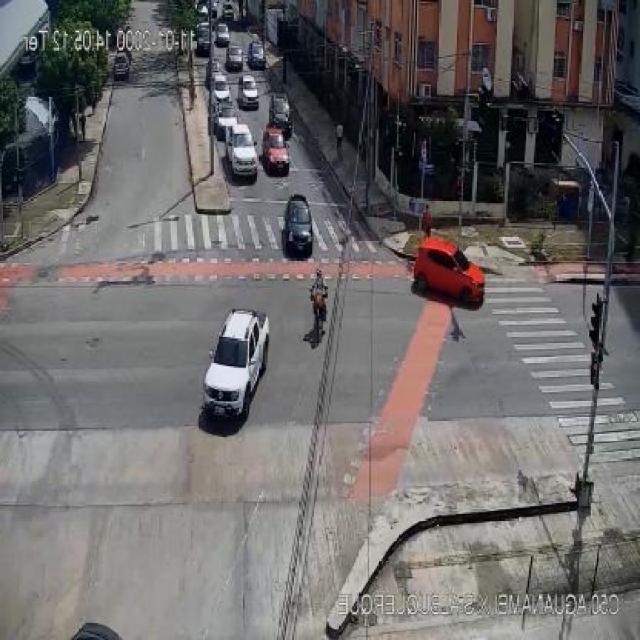Car: (412, 238, 484, 305), (282, 194, 313, 258), (226, 124, 259, 179), (262, 127, 290, 175), (269, 94, 293, 137), (214, 102, 239, 138), (238, 74, 260, 107), (212, 73, 230, 103), (195, 25, 213, 55), (247, 42, 265, 70), (225, 46, 244, 72), (113, 52, 130, 80), (215, 22, 230, 46)
Cycle: (308, 285, 328, 342)
Truck: (200, 310, 269, 422)
